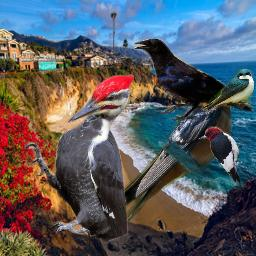Crow: (134, 38, 254, 121)
Swallow: (105, 82, 232, 243), (201, 69, 254, 111)
Woodpecker: (24, 74, 134, 242), (196, 126, 244, 186)
